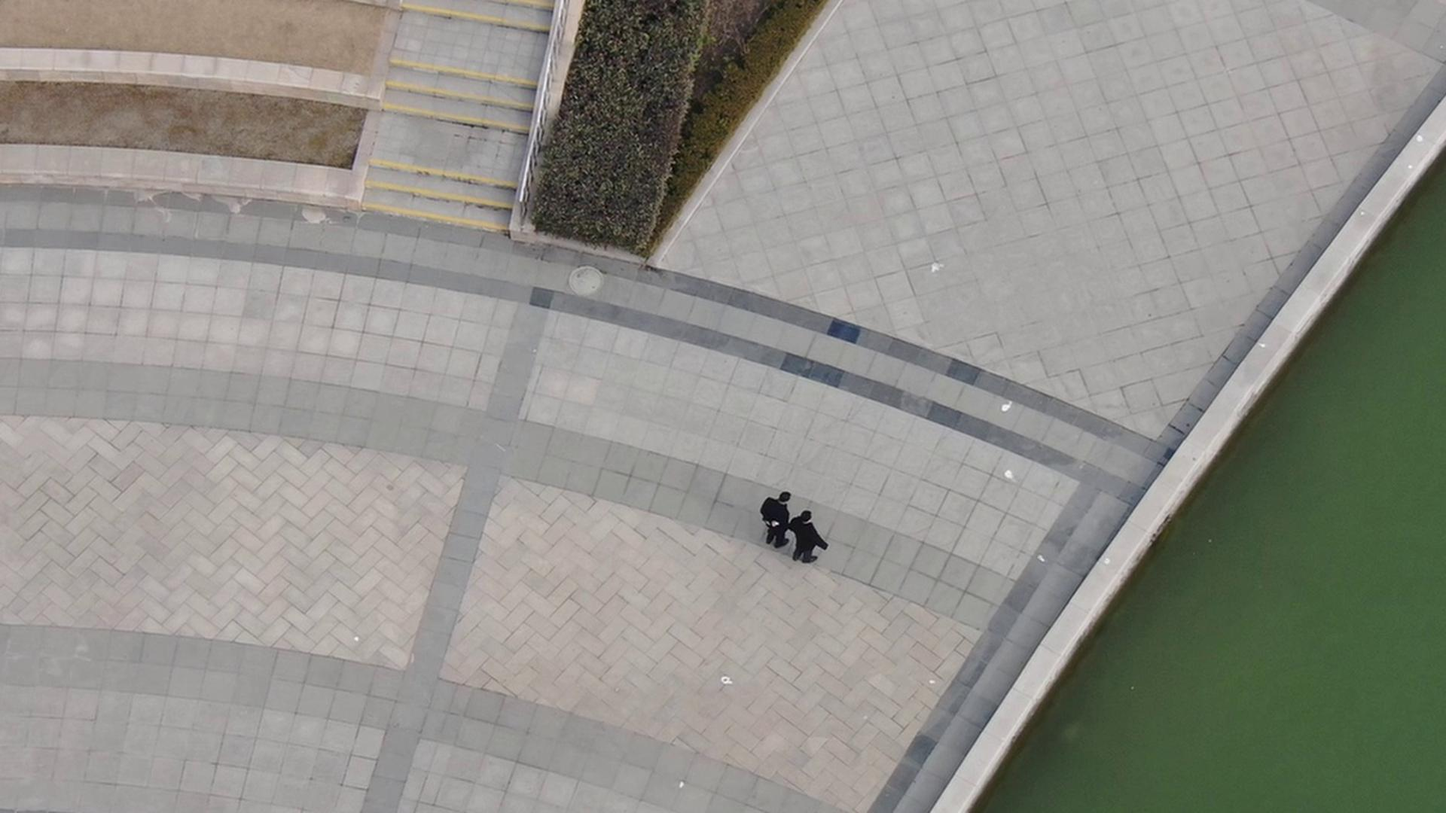human: (763, 486, 803, 557), (796, 510, 834, 572)
